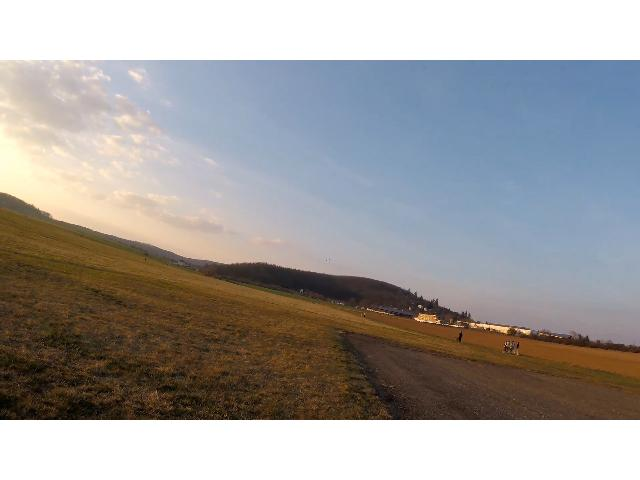Anti-Drone: (320, 253, 340, 267)
